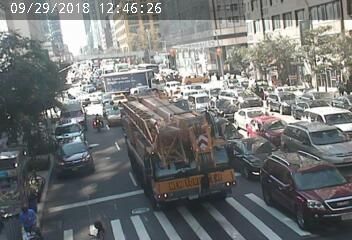car: (139, 107, 197, 170), (277, 157, 307, 186), (107, 78, 153, 93), (61, 148, 96, 166), (300, 122, 320, 144), (248, 138, 268, 155), (62, 109, 87, 120), (104, 103, 120, 119), (60, 127, 83, 138), (232, 89, 249, 99), (309, 108, 325, 118), (260, 115, 272, 128), (193, 98, 209, 107), (238, 111, 250, 119), (207, 84, 218, 92), (185, 84, 201, 89), (276, 95, 286, 103), (169, 80, 176, 85), (176, 91, 190, 93)
